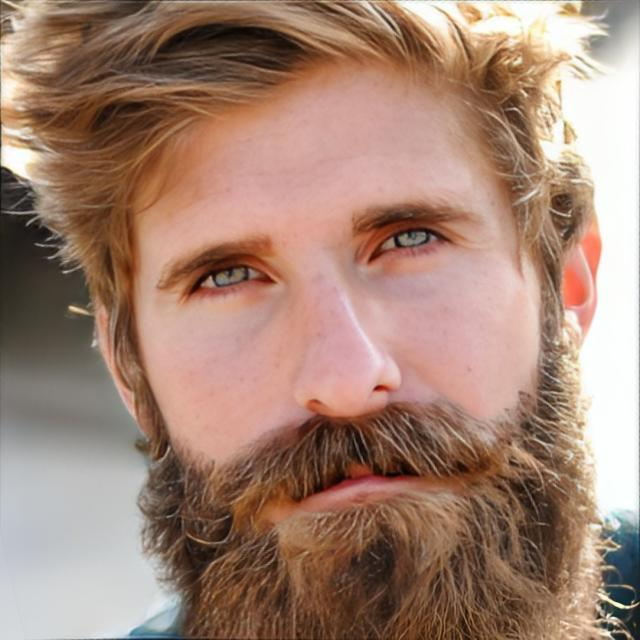neutral: (127, 68, 538, 578)
